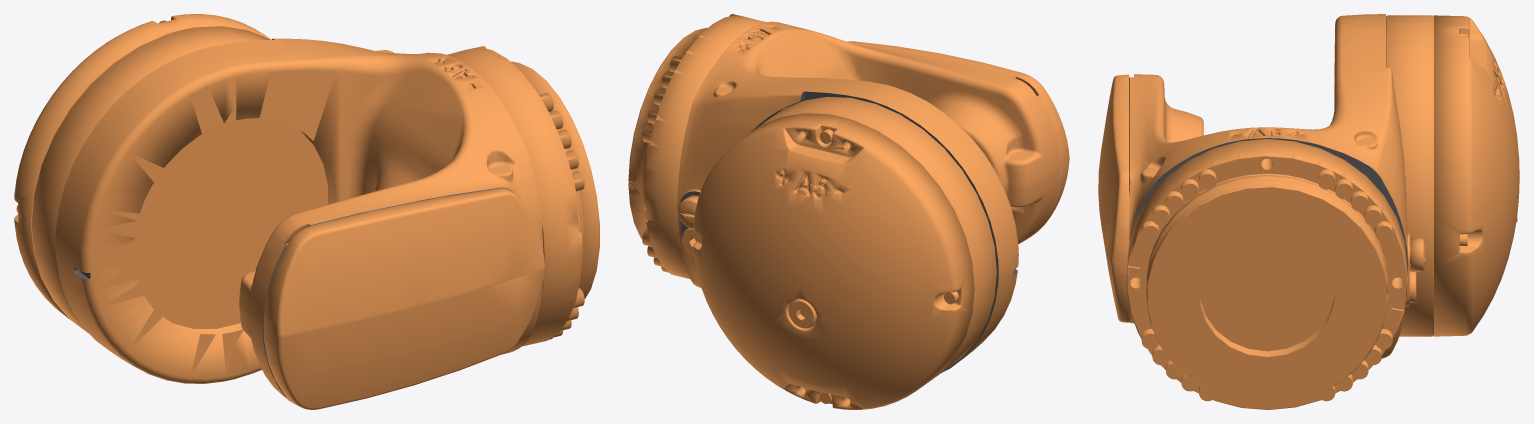
3 views of the same model, side by side, from view 1: azimuth 30°, elevation 25°; view 2: azimuth 150°, elevation 25°; view 3: azimuth 270°, elevation 25° (orthographic). The views are drawn at different scales.
Visible parts, largest first — view 1: link_5; view 2: link_5; view 3: link_5.
Part boxes in pixels (x1,y1,x2,y2): link_5: (14,14,599,409); link_5: (628,14,1069,409); link_5: (1098,14,1519,409).
Size of the model in its own units: 0.3302 by 0.312 by 0.24.
